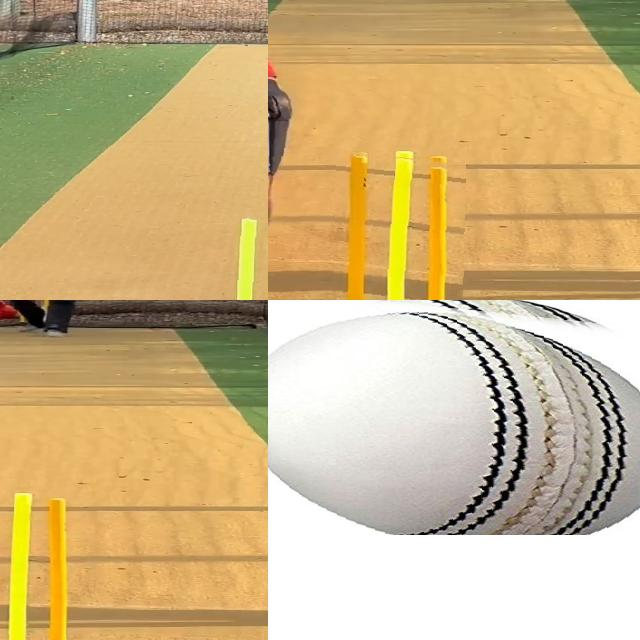Cricket ball: (268, 300, 640, 534)
Stumps: (331, 150, 466, 300), (0, 492, 85, 640)
